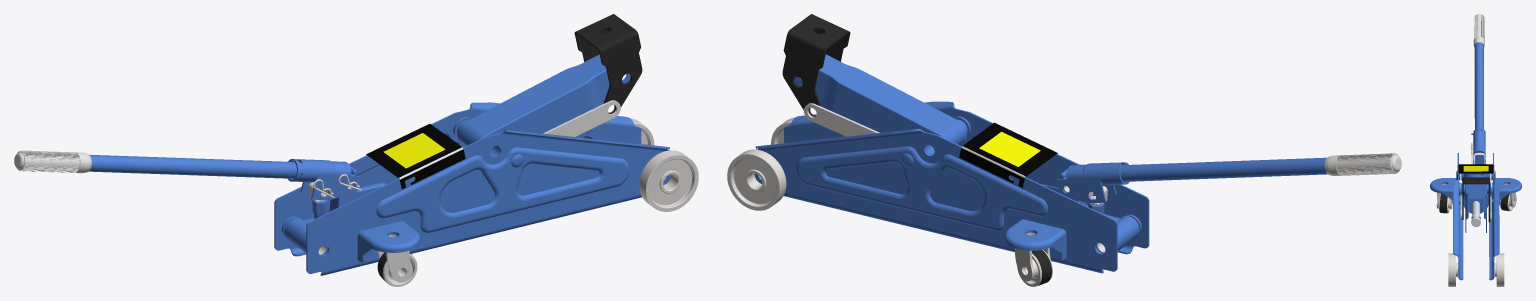
The model's file is Assem.glb.
The picture shows the model from 3 angles, left to right: view 1: azimuth 30°, elevation 25°; view 2: azimuth 150°, elevation 25°; view 3: azimuth 270°, elevation 25°; orthographic projection. The views are drawn at different scales.
Parts seen in each view (by area): view 1: Assem; view 2: Assem; view 3: Assem.
Boxes of the visible parts, bbox=[...] form: Assem: bbox=[14, 14, 698, 286]; Assem: bbox=[727, 14, 1401, 286]; Assem: bbox=[1430, 14, 1521, 286].
Size of the model in its own units: 0.8035 by 0.227 by 0.1778.
